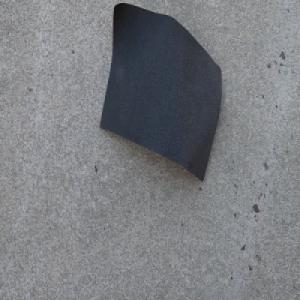PaintChip: (99, 2, 222, 182)
